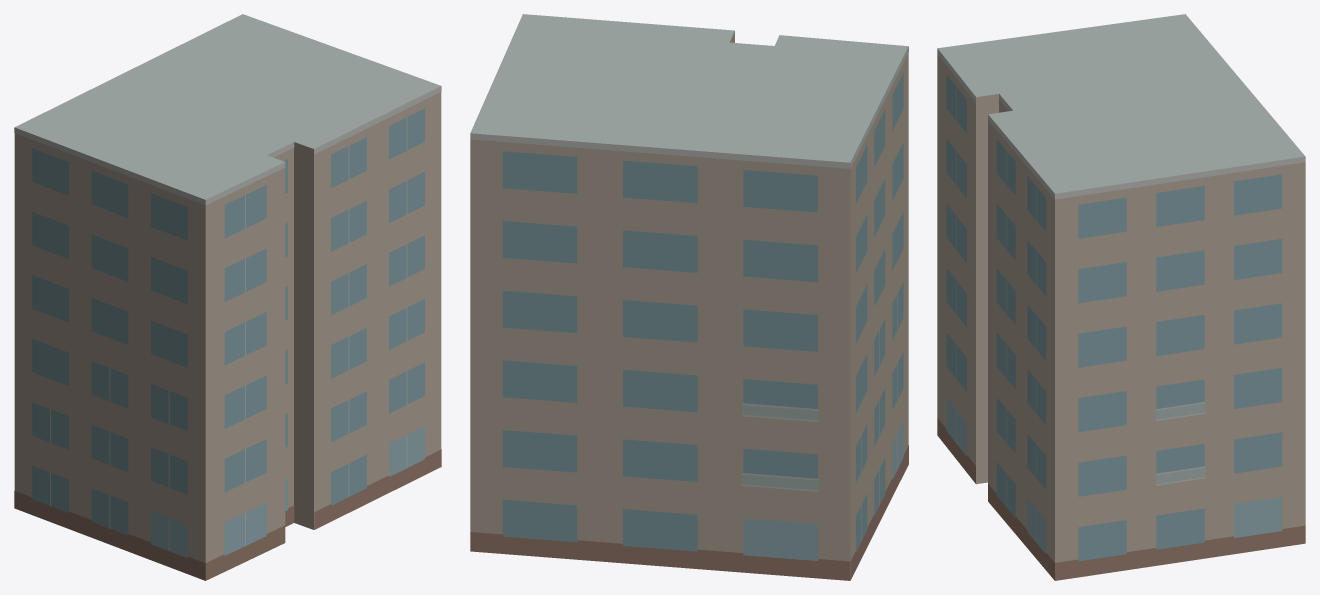
Rendered from survey-upis-32738117.glb.
The picture shows the model from 3 angles, left to right: view 1: azimuth 30°, elevation 25°; view 2: azimuth 150°, elevation 25°; view 3: azimuth 270°, elevation 25°; orthographic projection. The views are drawn at different scales.
Parts seen in each view (by area): view 1: survey-upis-32738117.tmp; view 2: survey-upis-32738117.tmp; view 3: survey-upis-32738117.tmp.
Part boxes in pixels (x1=…): survey-upis-32738117.tmp: x1=14, y1=14, x2=441, y2=580; survey-upis-32738117.tmp: x1=470, y1=14, x2=908, y2=580; survey-upis-32738117.tmp: x1=937, y1=14, x2=1305, y2=580.
Bounding box in the file's own units: 16.55 × 16.6 × 14.32.
